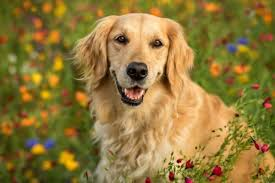Bulldog: (60, 15, 259, 179)
